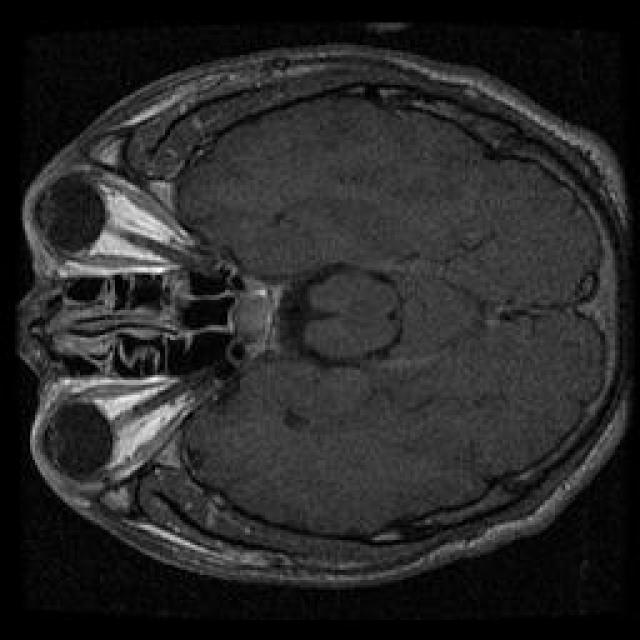Pituitary: (226, 266, 285, 367)
